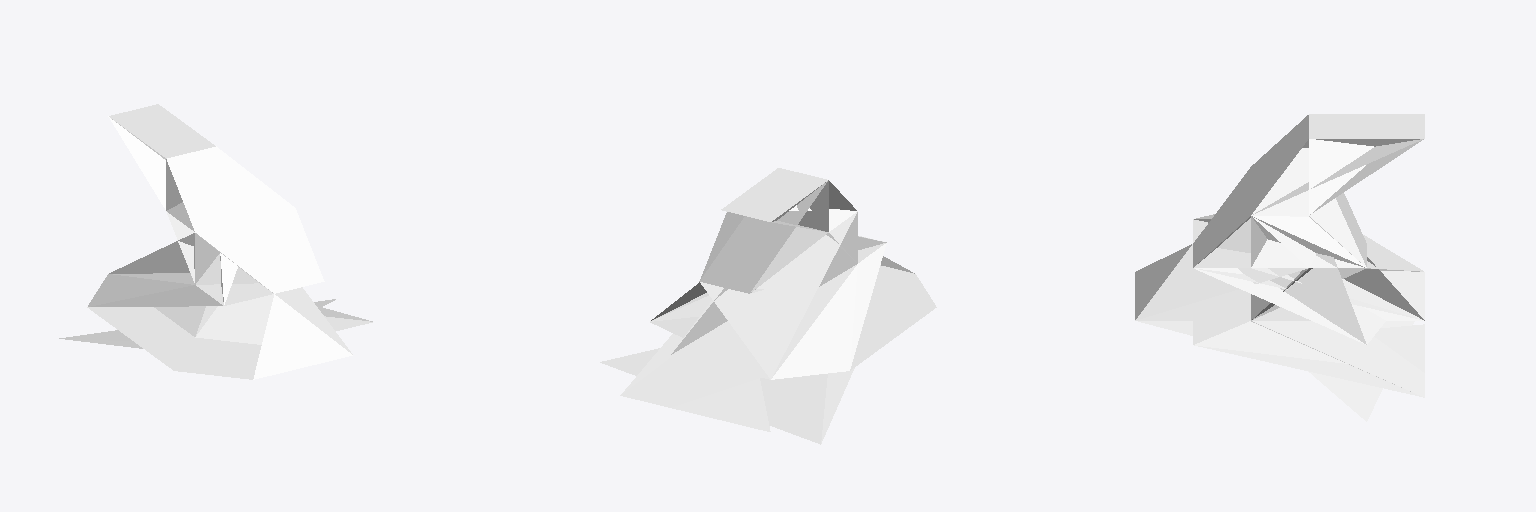
The model's file is SwordGoblin_Attack1.obj.
3 views of the same model, side by side, from view 1: azimuth 30°, elevation 25°; view 2: azimuth 150°, elevation 25°; view 3: azimuth 270°, elevation 25° (orthographic).
Bounding box in the file's own units: 5 × 4 × 5.